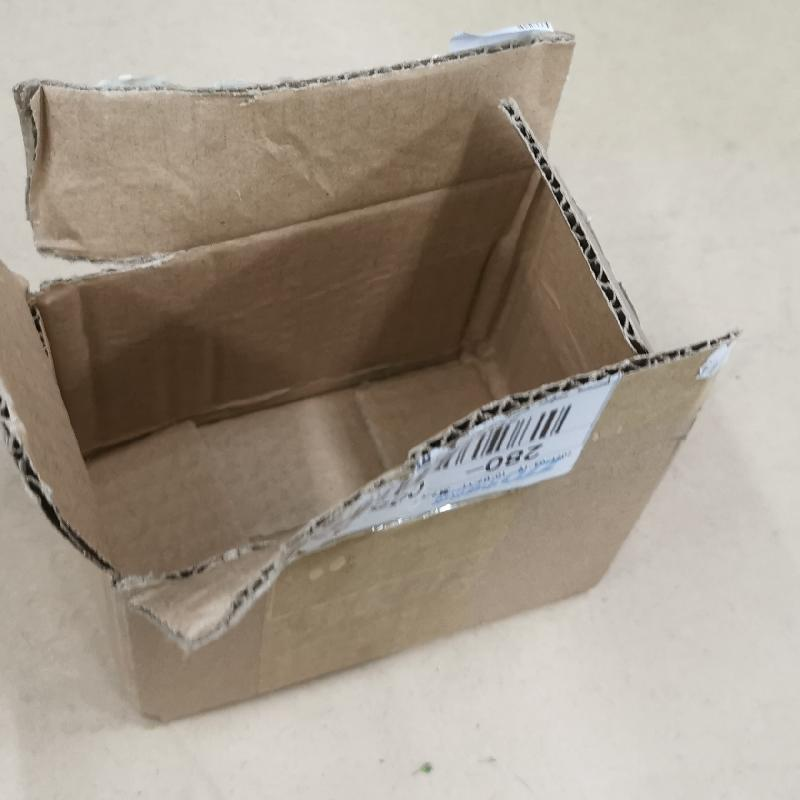boxes: (12, 28, 740, 719)
